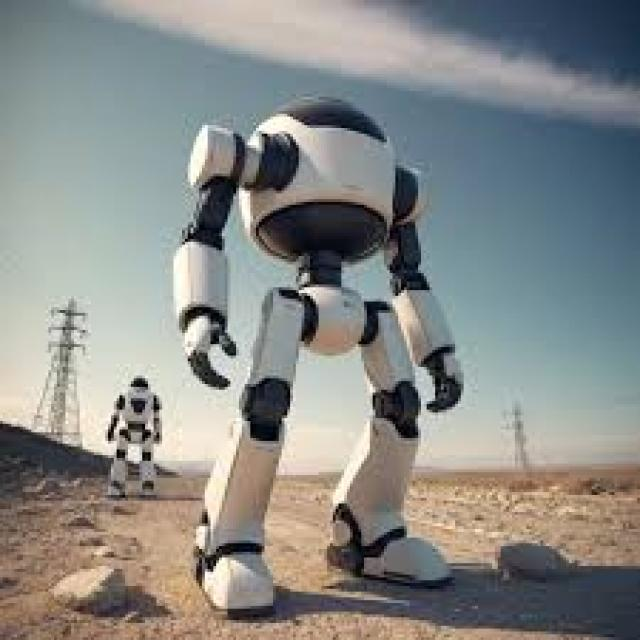humanoid-leg: (329, 411, 452, 589), (198, 417, 281, 621), (103, 463, 128, 499), (139, 457, 156, 499)
